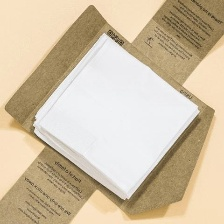tissue: (27, 27, 206, 205)
